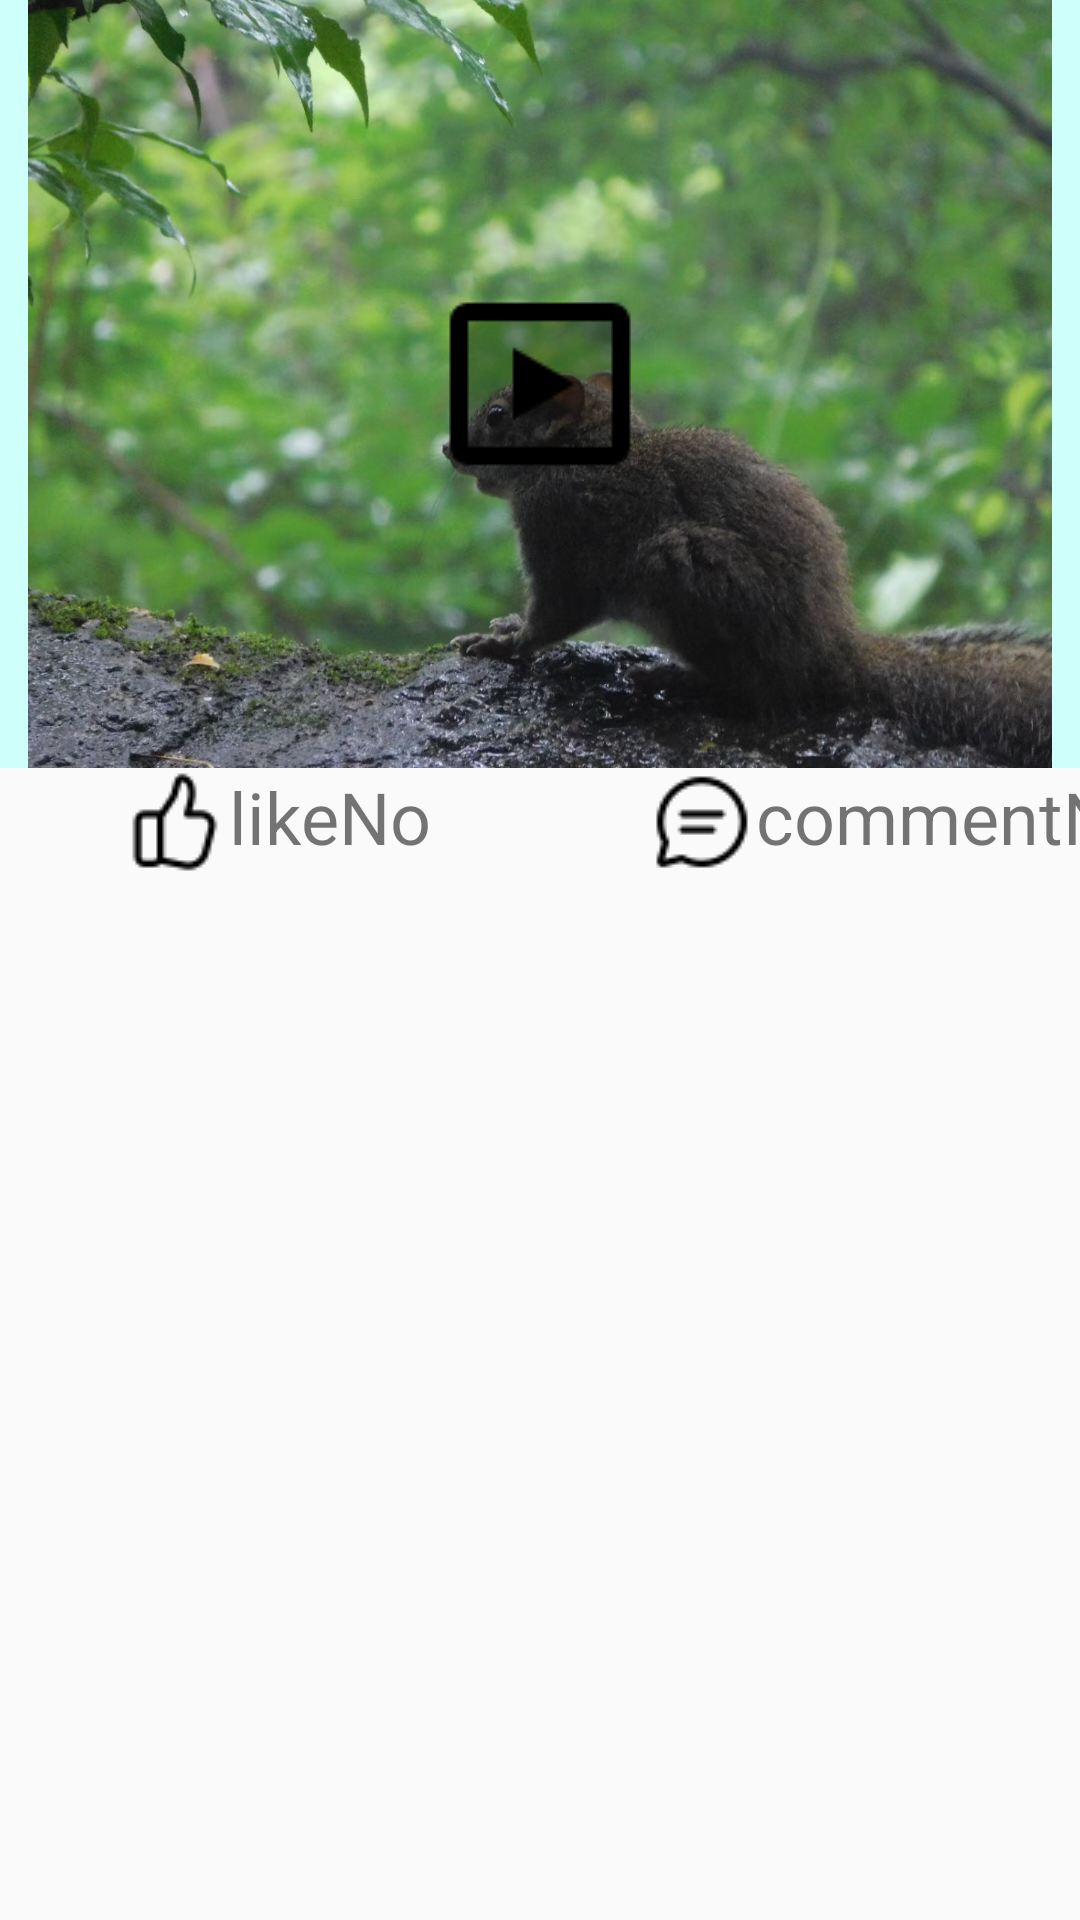

Icon click points for this 1080x1920 phone screenshot, format (x,y):
play: (540,384)
